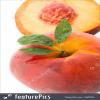Peach leaf: (13, 34, 56, 47), (55, 17, 73, 45), (18, 46, 53, 55)
